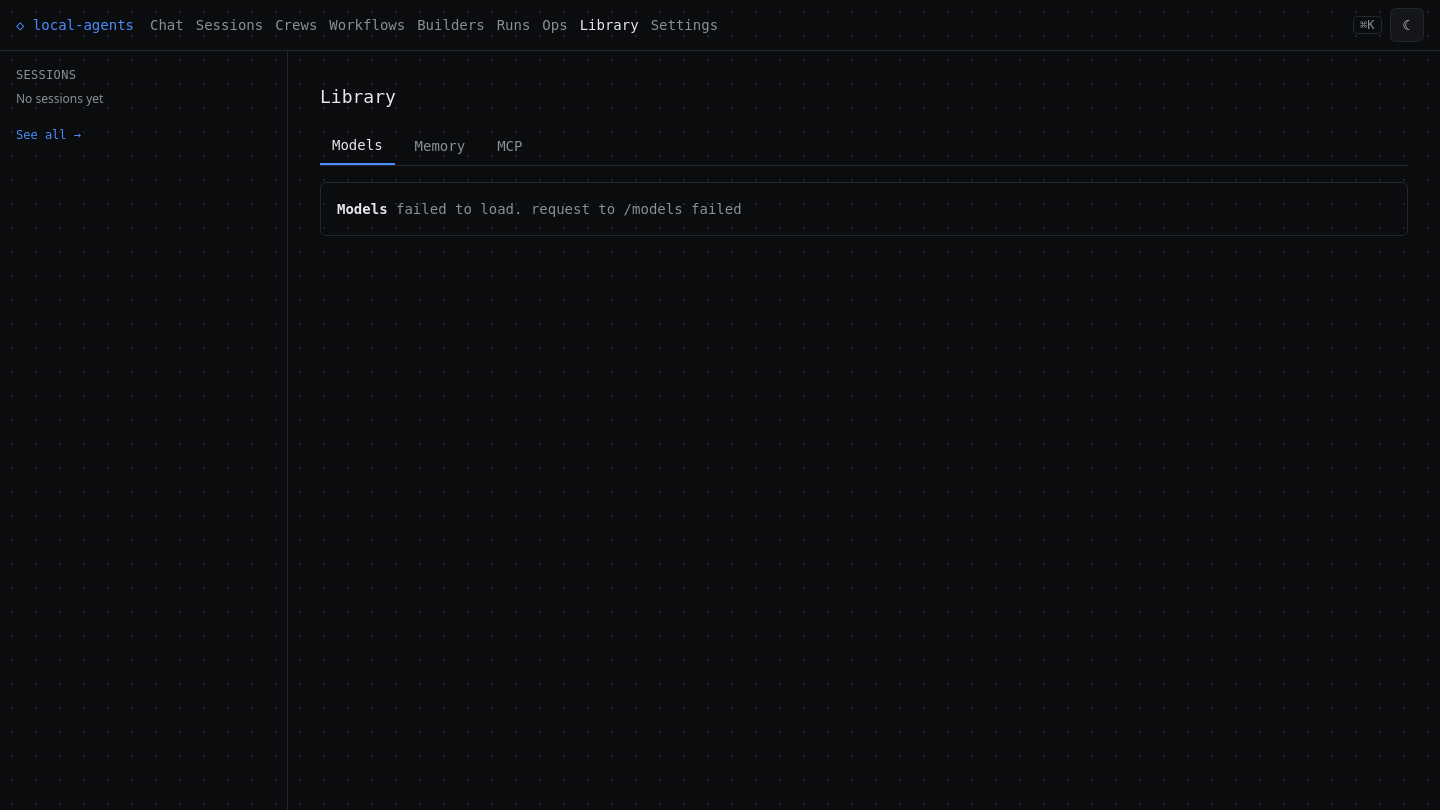
Test: MemoryTab › surfaces an error when the spaces list fails to load
The image size is (1440, 810).
Click the tab with test id "library-tab-memory". click: x=440, y=146
box: [403,127,477,165]
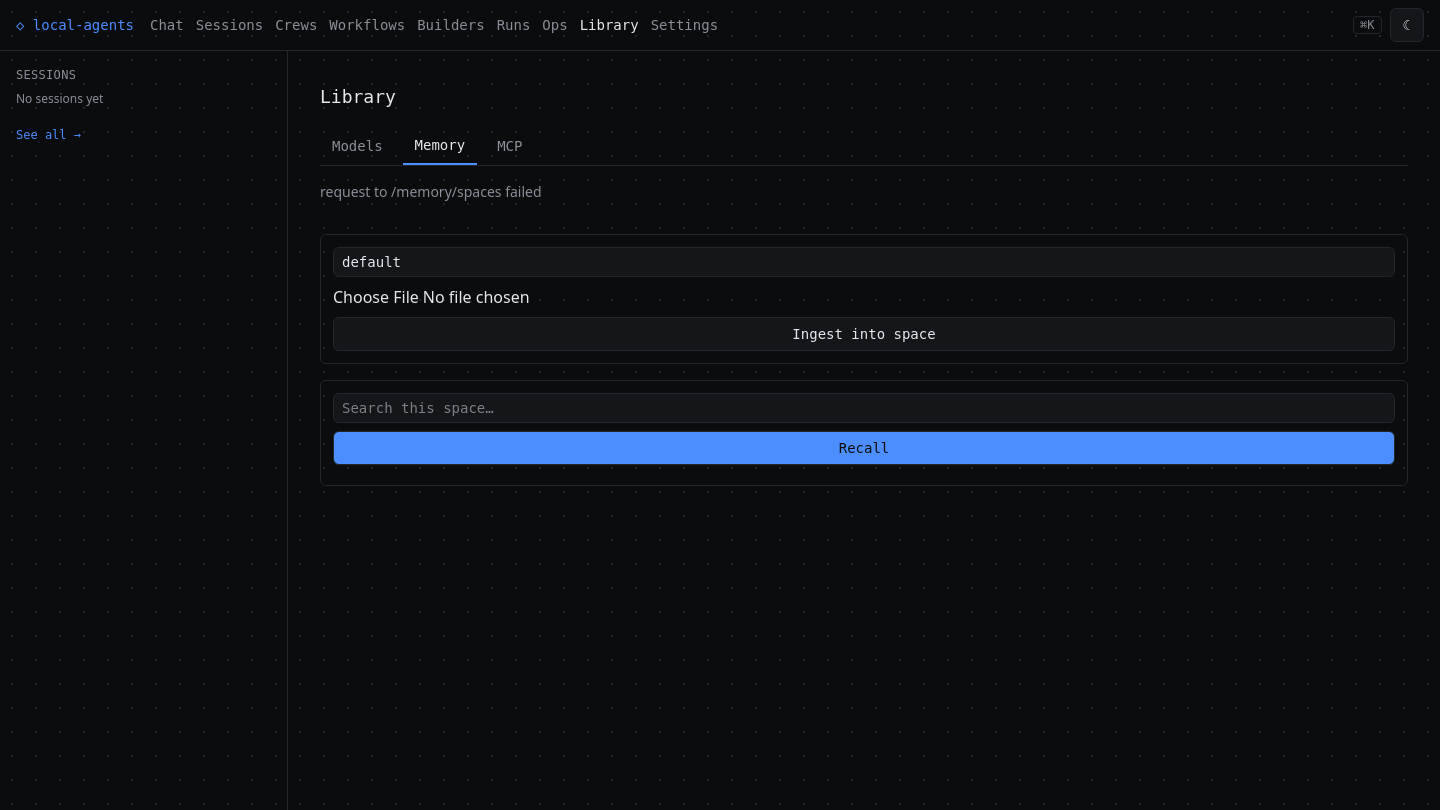
Check: the message "request to /memory/spaces failed" is shown, box [320,182,542,201]
